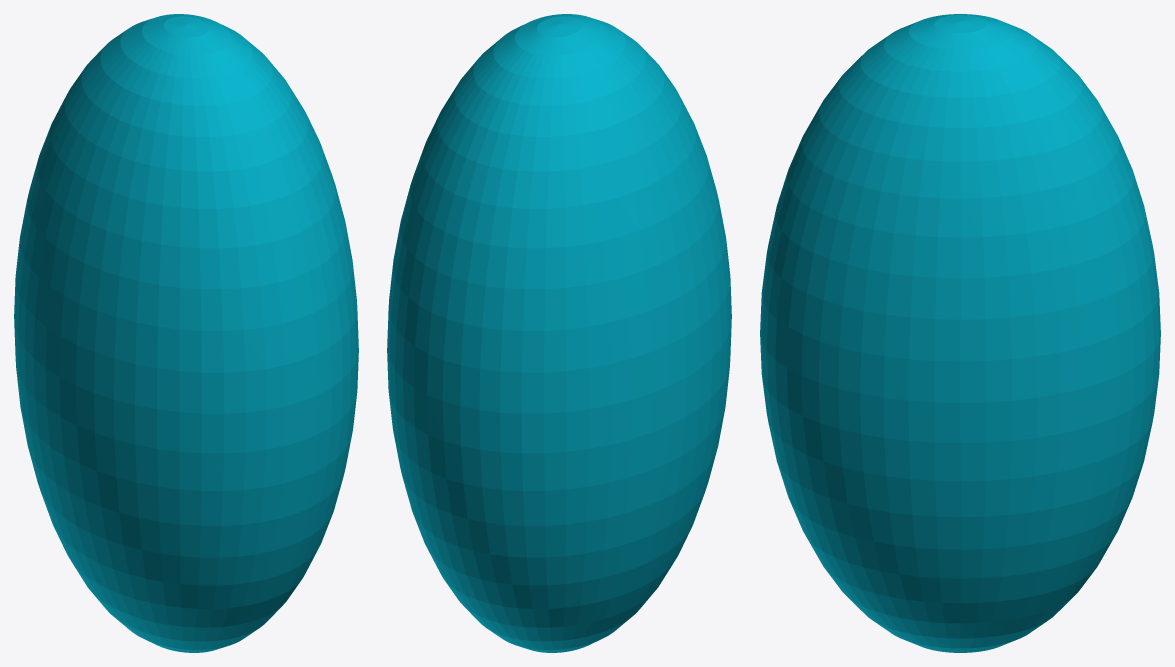
File: demo.glb
The picture shows the model from 3 angles, left to right: view 1: azimuth 30°, elevation 25°; view 2: azimuth 150°, elevation 25°; view 3: azimuth 270°, elevation 25°; orthographic projection.
Visible parts, largest first — view 1: Mesh_Mesh_head_geo.001_lambert2SG.001; view 2: Mesh_Mesh_head_geo.001_lambert2SG.001; view 3: Mesh_Mesh_head_geo.001_lambert2SG.001.
Part boxes in pixels (x1,y1,x2,y2): Mesh_Mesh_head_geo.001_lambert2SG.001: (14,14,358,652); Mesh_Mesh_head_geo.001_lambert2SG.001: (387,14,731,652); Mesh_Mesh_head_geo.001_lambert2SG.001: (760,14,1160,652).
Size of the model in its own units: 0.032 by 0.067 by 0.039.
